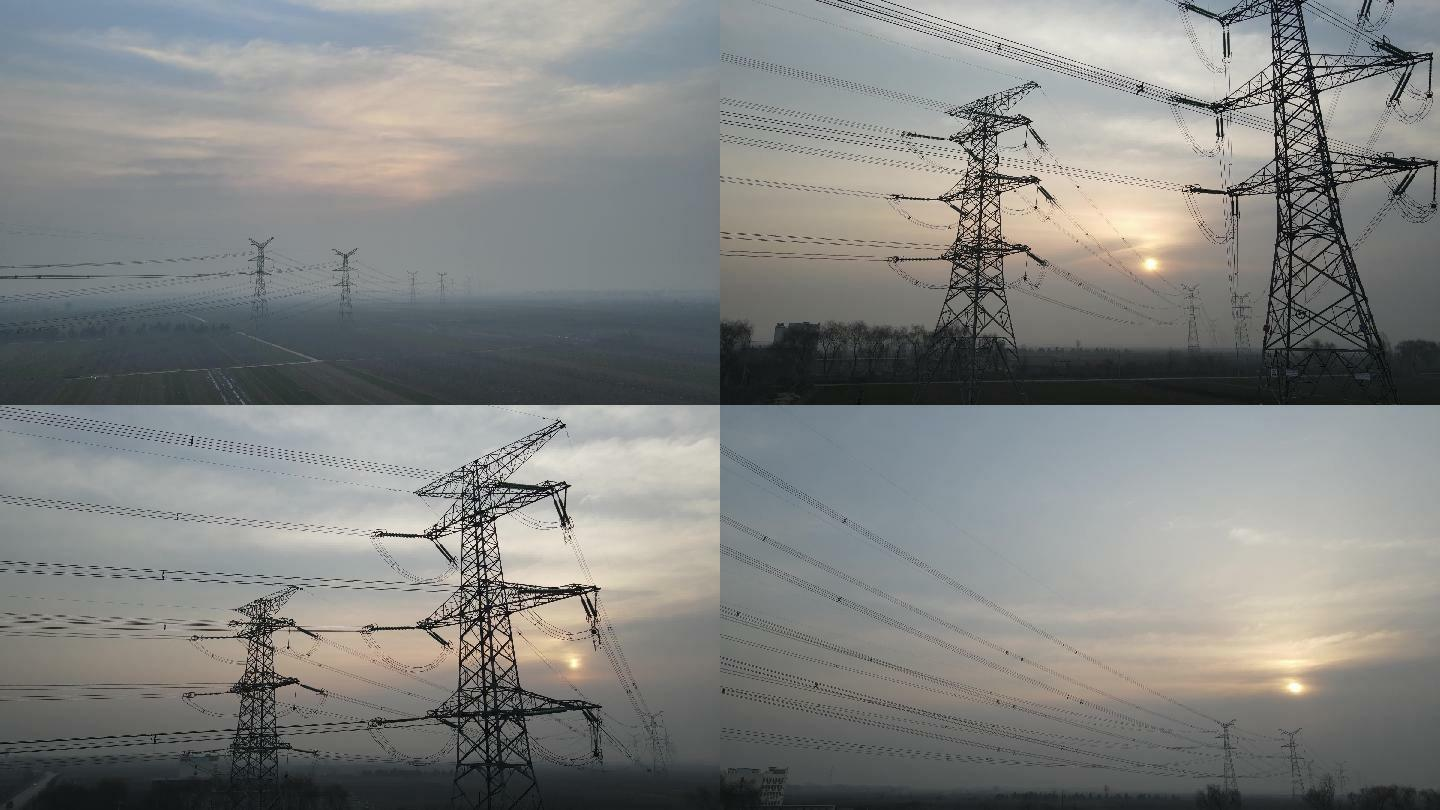power_tower: (1182, 1, 1437, 378), (406, 412, 592, 800), (907, 76, 1043, 363), (209, 582, 333, 771), (1270, 722, 1313, 793), (1218, 716, 1257, 794), (242, 229, 283, 301), (331, 243, 372, 310), (1216, 289, 1259, 346), (1174, 277, 1206, 349), (401, 267, 432, 311), (434, 264, 451, 303)
